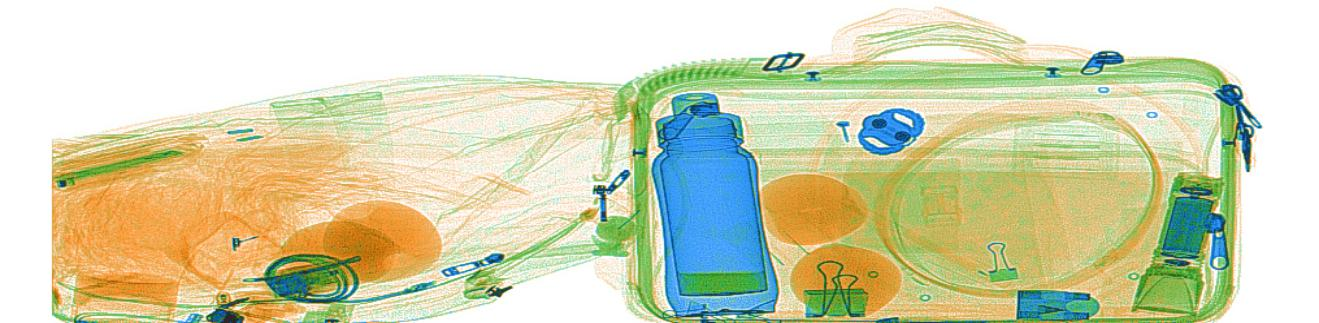battery: (1159, 193, 1215, 263)
